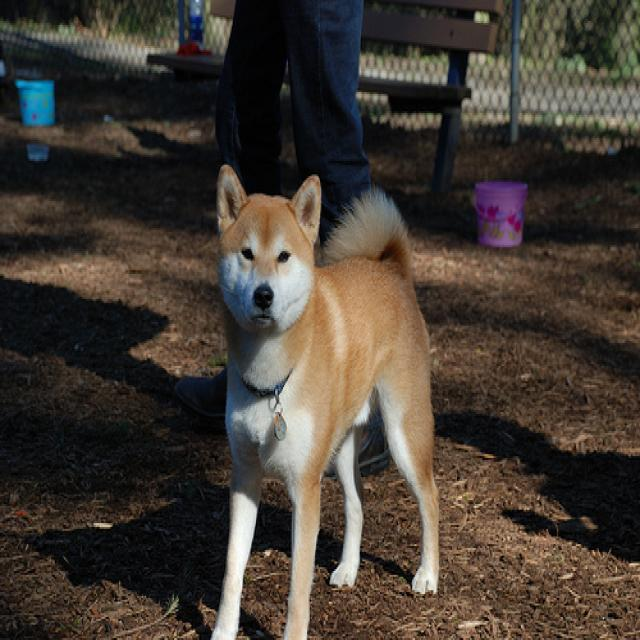dog-shiba_inu: (204, 159, 448, 636)
